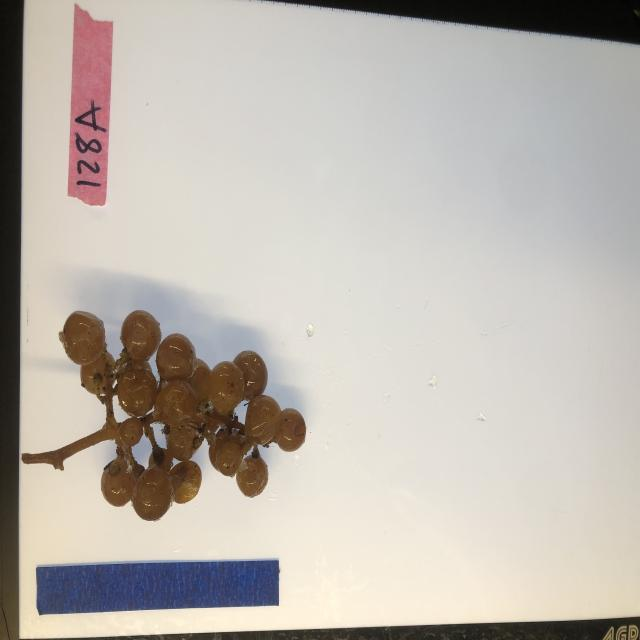grape_cluster: (18, 306, 310, 530)
index: (68, 0, 114, 206)
measure_label: (35, 560, 284, 616)
